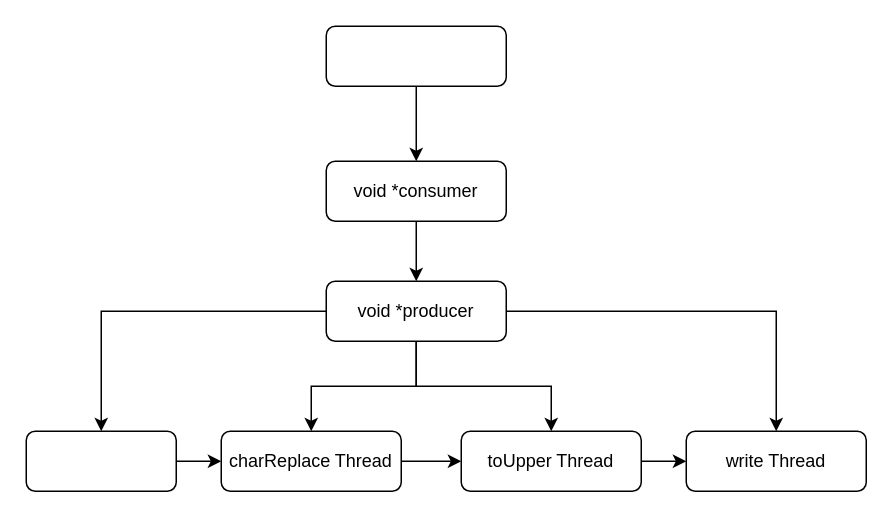
The diagram is 893 pixels wide and 518 high, and some of its shapes have lost their labels. The shapes that lost their labels are listed below. From the top down, each one's centre as x and y in pixels, then its label:
At [415,55]: "int main()".
At [100,460]: "read Thread".
